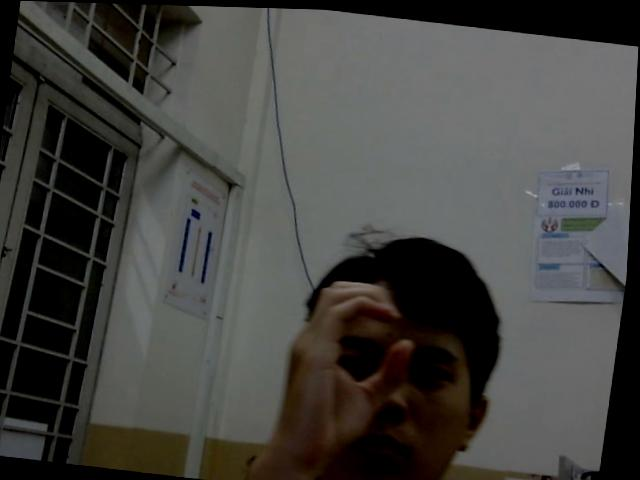C: (271, 269, 427, 467)
